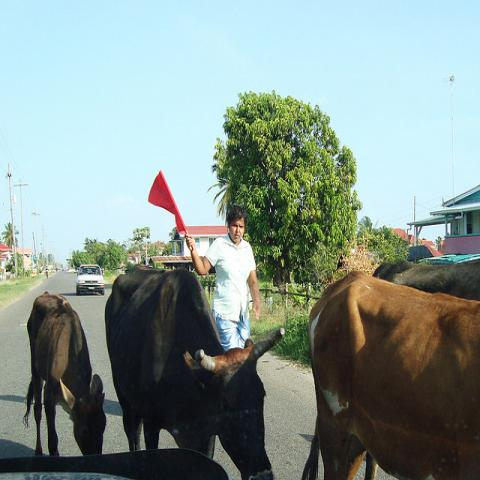car: (76, 264, 104, 296), (408, 244, 444, 262)
